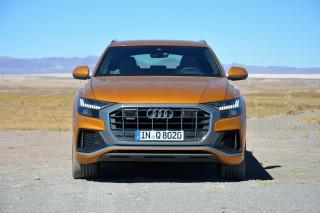Audi: (141, 106, 177, 122)
